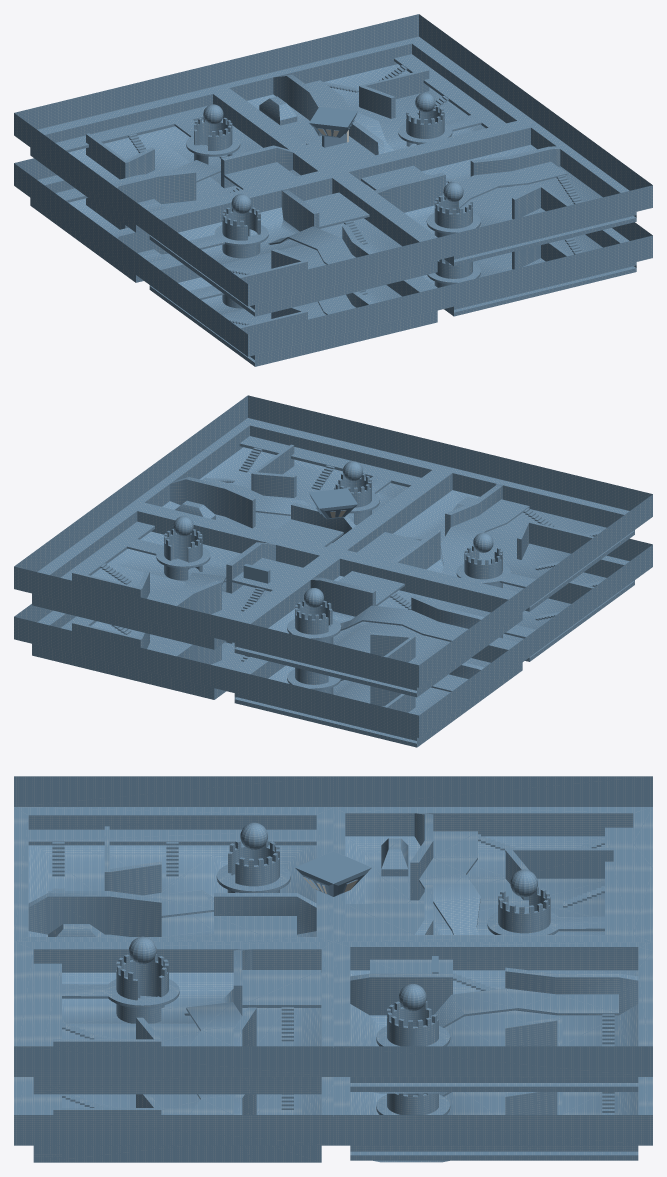
Rendered from world_using.glb.
3 renders of one model, top to bottom at view 1: azimuth 30°, elevation 25°; view 2: azimuth 150°, elevation 25°; view 3: azimuth 270°, elevation 25°, orthographic. The views are drawn at different scales.
Visible parts, largest first — view 1: fild.001, fild.002, TowerBalls, playersideIndicator; view 2: fild.001, fild.002, TowerBalls, playersideIndicator; view 3: fild.001, fild.002, TowerBalls, playersideIndicator.
Boxes of the visible parts, x1,y1,x2,y2 form: fild.001: (14, 14, 652, 316); fild.002: (14, 158, 652, 366); TowerBalls: (203, 92, 463, 213); playersideIndicator: (309, 106, 357, 137); fild.001: (14, 395, 652, 697); fild.002: (14, 538, 652, 747); TowerBalls: (173, 461, 493, 607); playersideIndicator: (309, 488, 357, 519); fild.001: (14, 776, 652, 1094); fild.002: (14, 1077, 652, 1162); TowerBalls: (129, 822, 537, 1011); playersideIndicator: (295, 851, 371, 896).
Size of the model in its own units: 70 by 22.22 by 70.
Materials: 2 (2 with a texture image).
